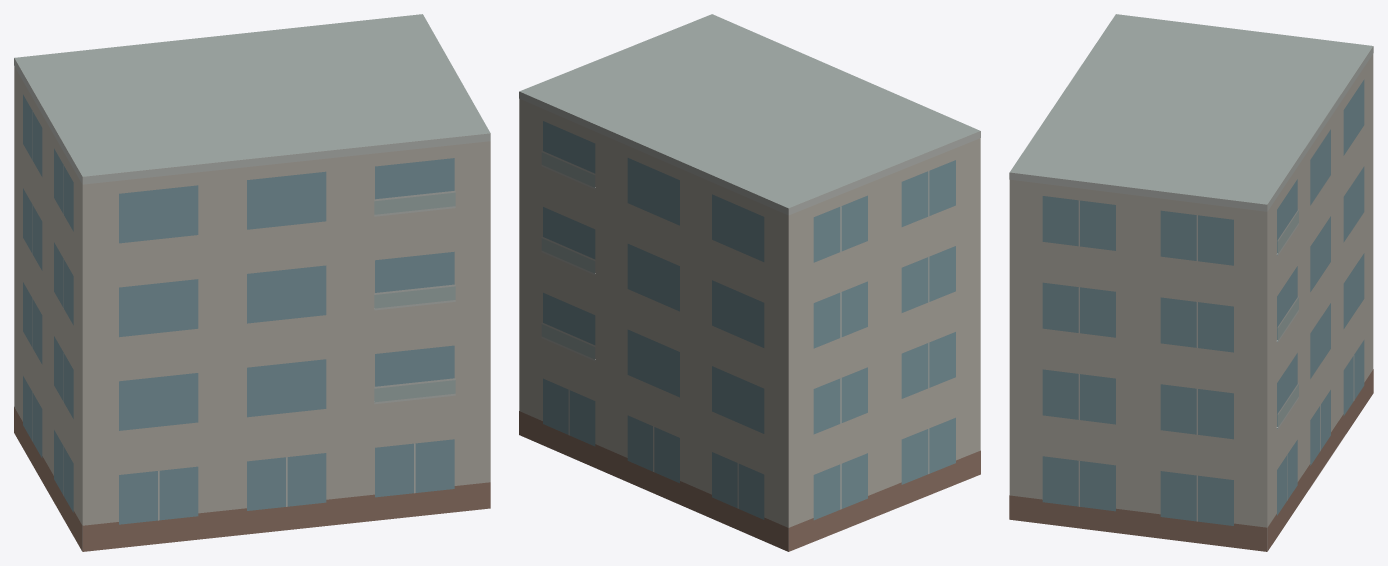
The model's file is survey-upis-33026041.glb.
3 views of the same model, side by side, from view 1: azimuth 30°, elevation 25°; view 2: azimuth 150°, elevation 25°; view 3: azimuth 270°, elevation 25° (orthographic). The views are drawn at different scales.
Visible parts, largest first — view 1: survey-upis-33026041.tmp; view 2: survey-upis-33026041.tmp; view 3: survey-upis-33026041.tmp.
Boxes of the visible parts, <box> form: survey-upis-33026041.tmp: <box>14,14,490,551</box>; survey-upis-33026041.tmp: <box>519,14,980,551</box>; survey-upis-33026041.tmp: <box>1009,14,1373,551</box>.
Size of the model in its own units: 13.85 by 11.75 by 11.18.
